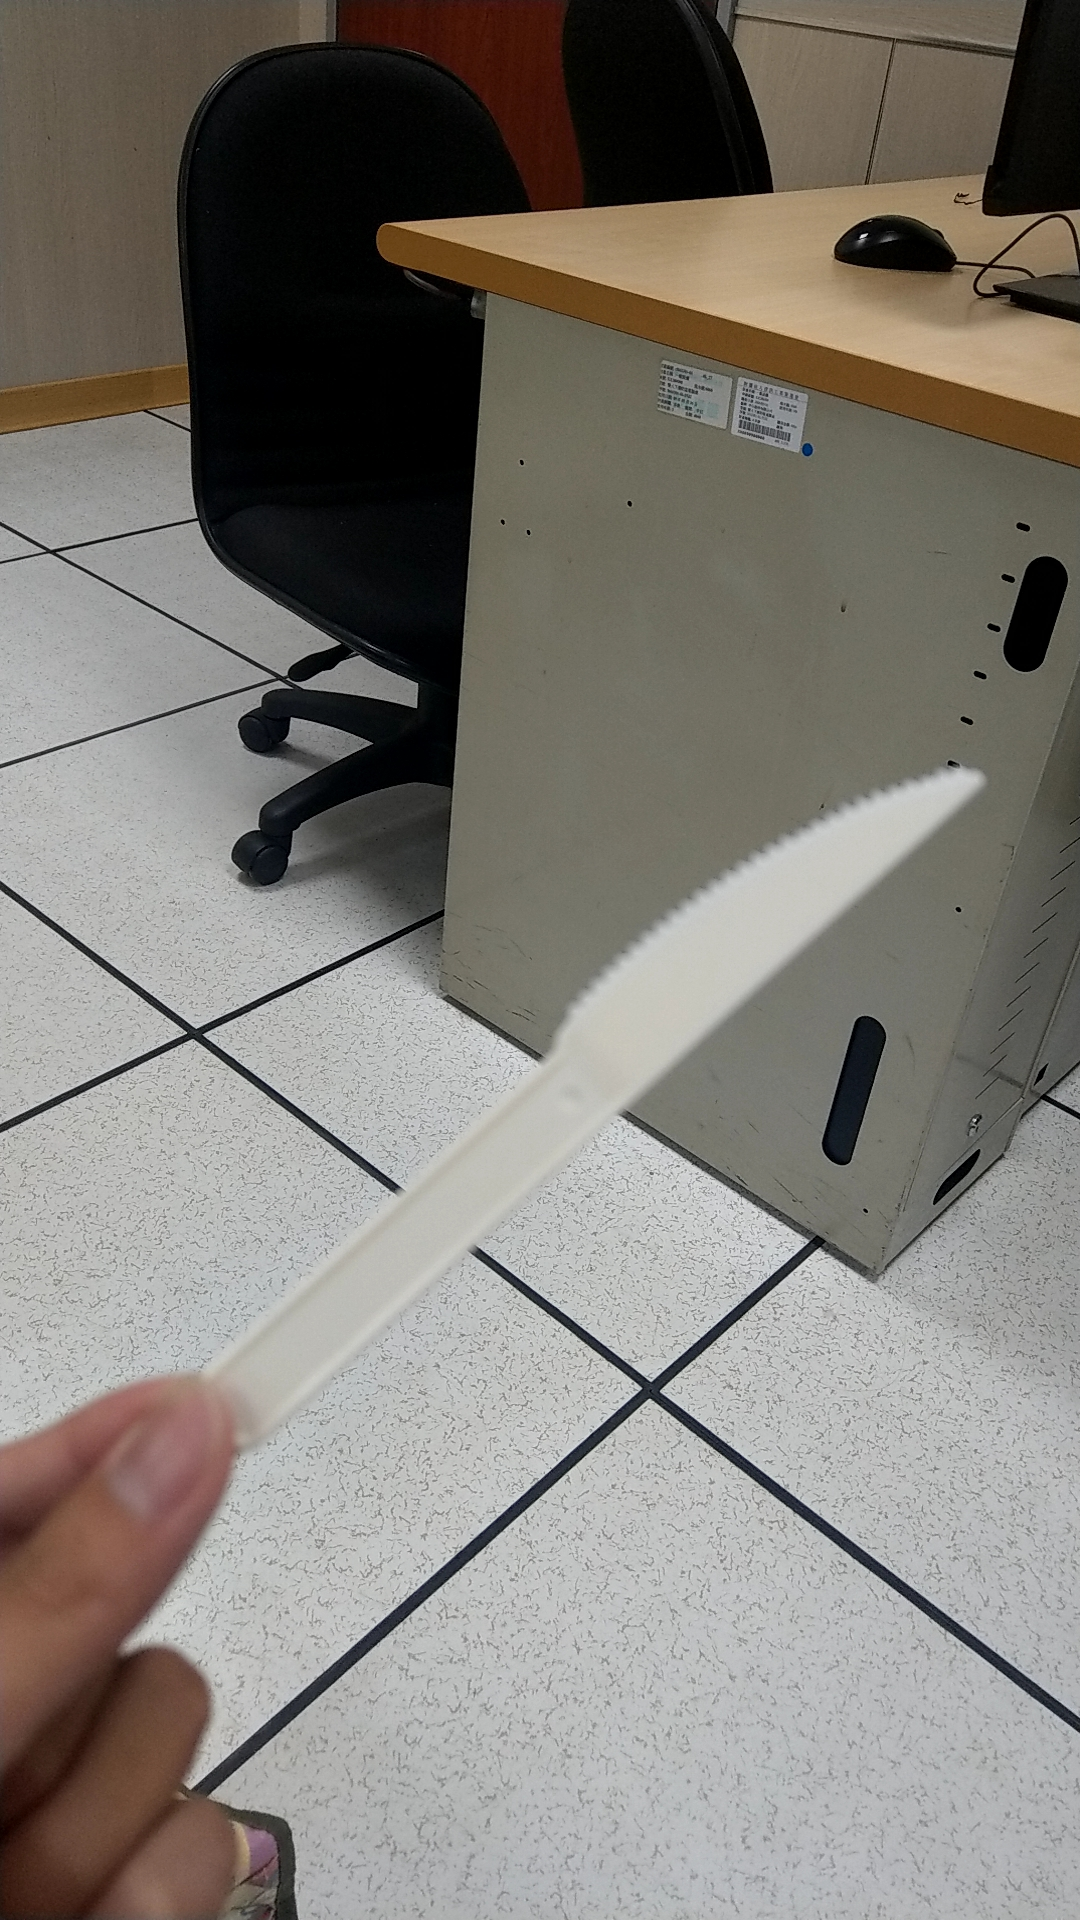knife: (251, 757, 993, 1418)
